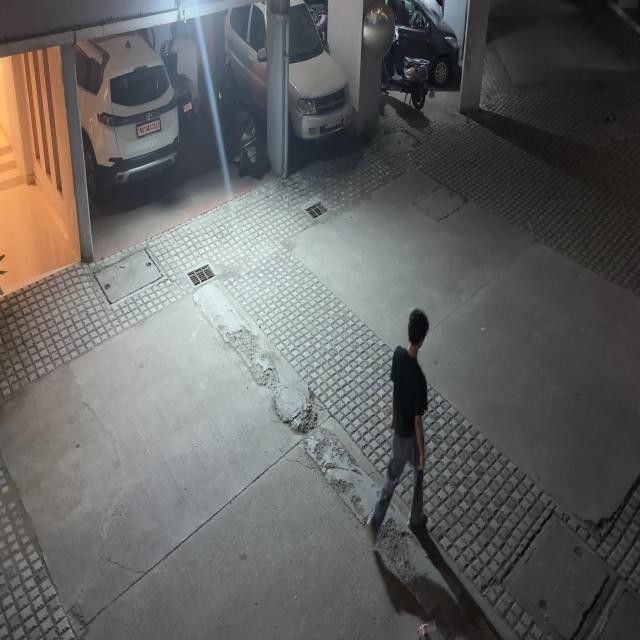garbage_dumping: (415, 615, 442, 640)
